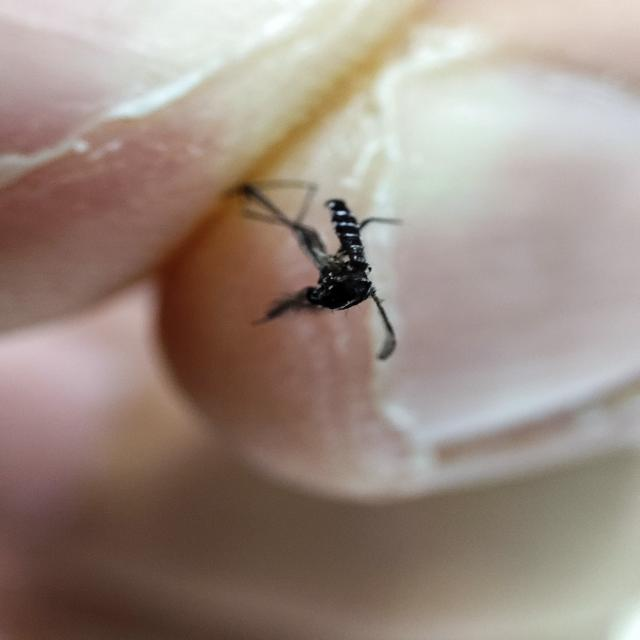albopictus: (199, 169, 410, 364)
